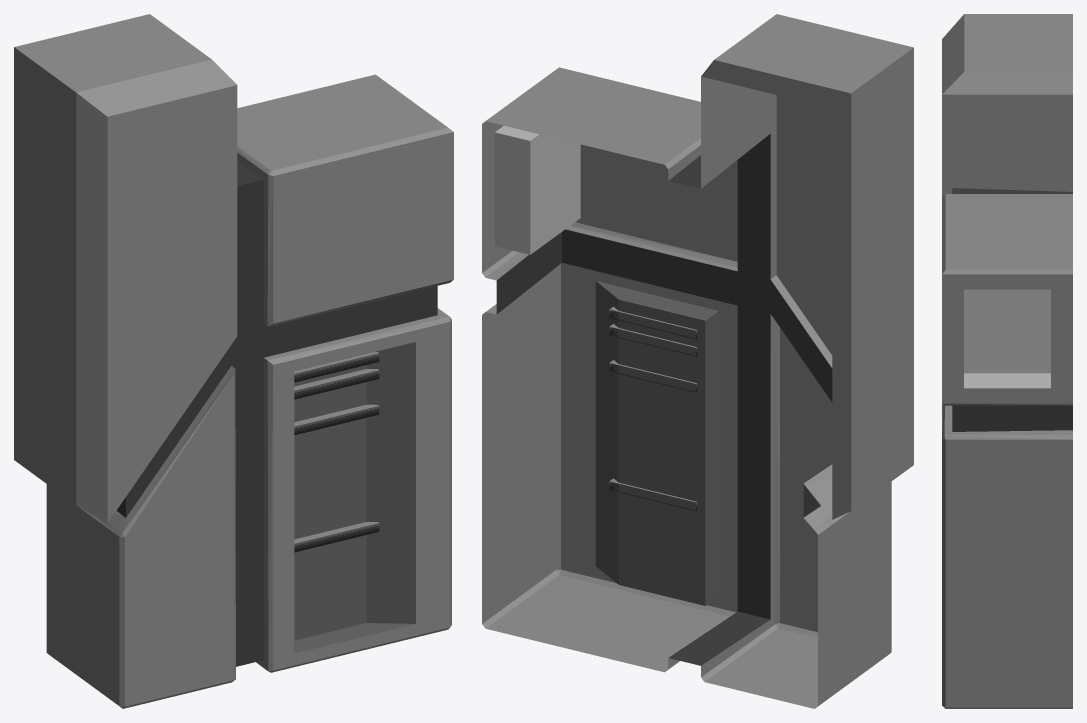
File: wall_tech_D.FBX
3 renders of one model, left to right at view 1: azimuth 30°, elevation 25°; view 2: azimuth 150°, elevation 25°; view 3: azimuth 270°, elevation 25°, orthographic. The views are drawn at different scales.
Visible parts, largest first — view 1: wall_tech_D; view 2: wall_tech_D; view 3: wall_tech_D.
Part boxes in pixels (x1,y1,x2,y2): wall_tech_D: (14,14,453,708); wall_tech_D: (482,14,913,708); wall_tech_D: (942,14,1072,708).
Bounding box in the file's own units: 19.34 × 31.26 × 6.86.
